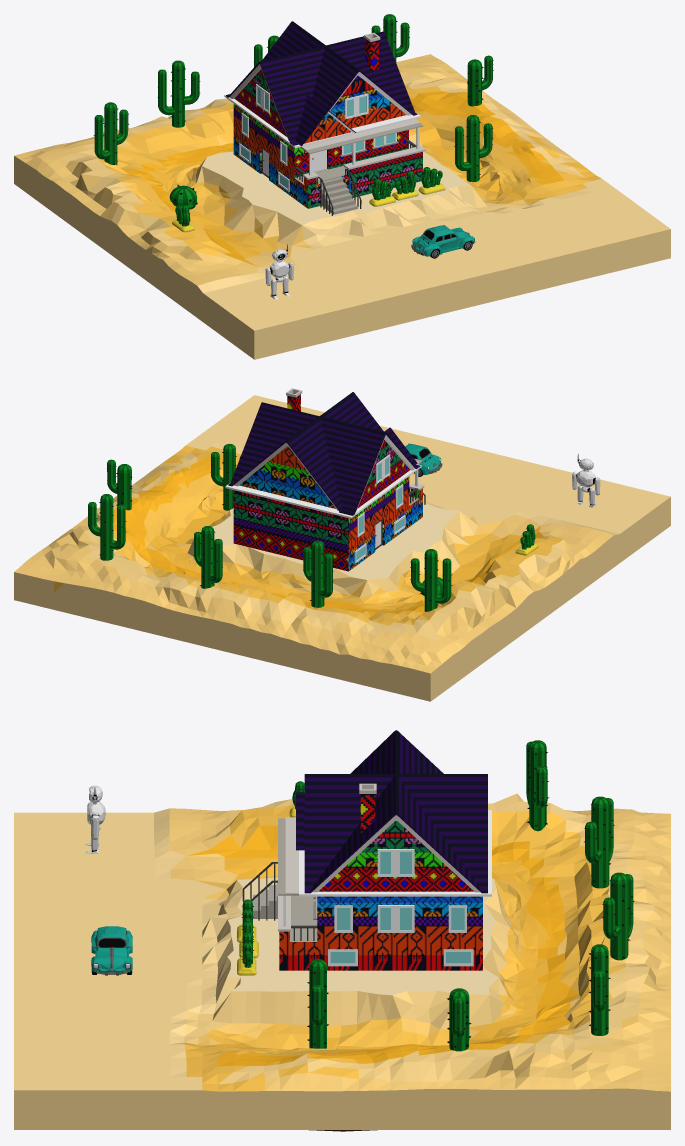
The picture shows the model from 3 angles, top to bottom: view 1: azimuth 30°, elevation 25°; view 2: azimuth 150°, elevation 25°; view 3: azimuth 270°, elevation 25°; orthographic projection. The views are drawn at different scales.
Parts seen in each view (by area): view 1: Cube.001, Cube.966, Cylinder.037, Cylinder.044, Cylinder.045, VEHICLES_VOLKSWAGEN, Cylinder.038, OBJRANDOM_PLATZEEBOT, Cylinder.042, Cylinder.039, Cylinder.041, Sphere.023 (+1 smaller); view 2: Cube.001, Cube.966, Cylinder.042, Cylinder.045, Cylinder.044, Cylinder.043, Cylinder.037, Cylinder.038, OBJRANDOM_PLATZEEBOT, VEHICLES_VOLKSWAGEN; view 3: Cube.001, Cube.966, Cylinder.043, Cylinder.044, VEHICLES_VOLKSWAGEN, Cylinder.045, Cylinder.042, Cylinder.037, Cylinder.038, OBJRANDOM_PLATZEEBOT, Cylinder.041.
Part boxes in pixels (<box>): Cube.001: <box>14,54,670,359</box>; Cube.966: <box>224,21,425,215</box>; Cylinder.037: <box>454,115,493,182</box>; Cylinder.044: <box>157,60,200,127</box>; Cylinder.045: <box>93,102,129,164</box>; VEHICLES_VOLKSWAGEN: <box>411,225,475,258</box>; Cylinder.038: <box>467,55,493,106</box>; OBJRANDOM_PLATZEEBOT: <box>265,244,293,299</box>; Cylinder.042: <box>371,14,409,62</box>; Cylinder.039: <box>369,179,395,206</box>; Cylinder.041: <box>418,167,445,194</box>; Sphere.023: <box>169,184,197,209</box>; Cube.001: <box>14,395,670,701</box>; Cube.966: <box>225,388,425,571</box>; Cylinder.042: <box>88,494,126,560</box>; Cylinder.045: <box>410,549,452,611</box>; Cylinder.044: <box>303,540,333,607</box>; Cylinder.043: <box>193,526,222,588</box>; Cylinder.037: <box>211,444,240,510</box>; Cylinder.038: <box>107,459,131,510</box>; OBJRANDOM_PLATZEEBOT: <box>572,453,600,507</box>; VEHICLES_VOLKSWAGEN: <box>405,443,442,476</box>; Cube.001: <box>14,793,670,1129</box>; Cube.966: <box>242,730,491,970</box>; Cylinder.043: <box>602,872,634,960</box>; Cylinder.044: <box>584,796,614,888</box>; VEHICLES_VOLKSWAGEN: <box>91,926,132,975</box>; Cylinder.045: <box>526,740,549,831</box>; Cylinder.042: <box>588,944,610,1035</box>; Cylinder.037: <box>307,959,328,1048</box>; Cylinder.038: <box>447,988,471,1051</box>; OBJRANDOM_PLATZEEBOT: <box>85,785,105,853</box>; Cylinder.041: <box>237,932,256,975</box>.
Bounding box in the file's own units: 4002 × 1693 × 4001.
33 materials, 6 textured.
